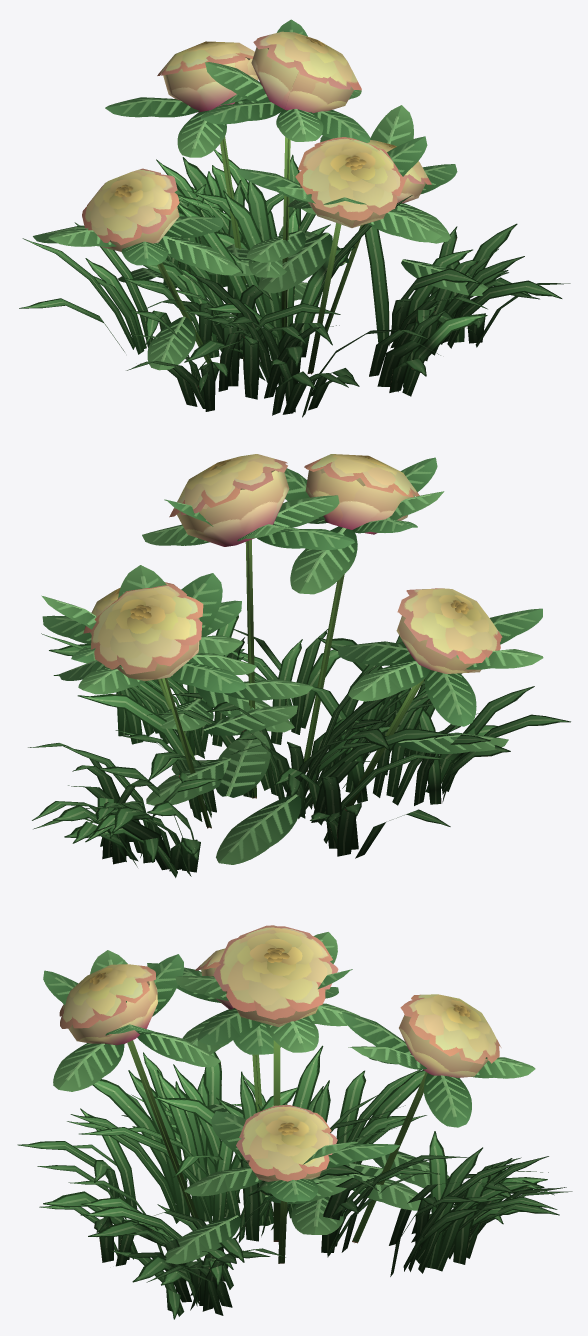
The model's file is mm7_deco_flower04.glb.
The picture shows the model from 3 angles, top to bottom: view 1: azimuth 30°, elevation 25°; view 2: azimuth 150°, elevation 25°; view 3: azimuth 270°, elevation 25°; orthographic projection. The views are drawn at different scales.
Visible parts, largest first — view 1: Plant; view 2: Plant; view 3: Plant.
Part boxes in pixels (box(x1,y1,x2,y2)): Plant: box(19, 19, 570, 417); Plant: box(28, 454, 570, 877); Plant: box(17, 925, 572, 1319).
Size of the model in its own units: 2.78 by 1.63 by 2.64.
Materials: 1 (1 with a texture image).
